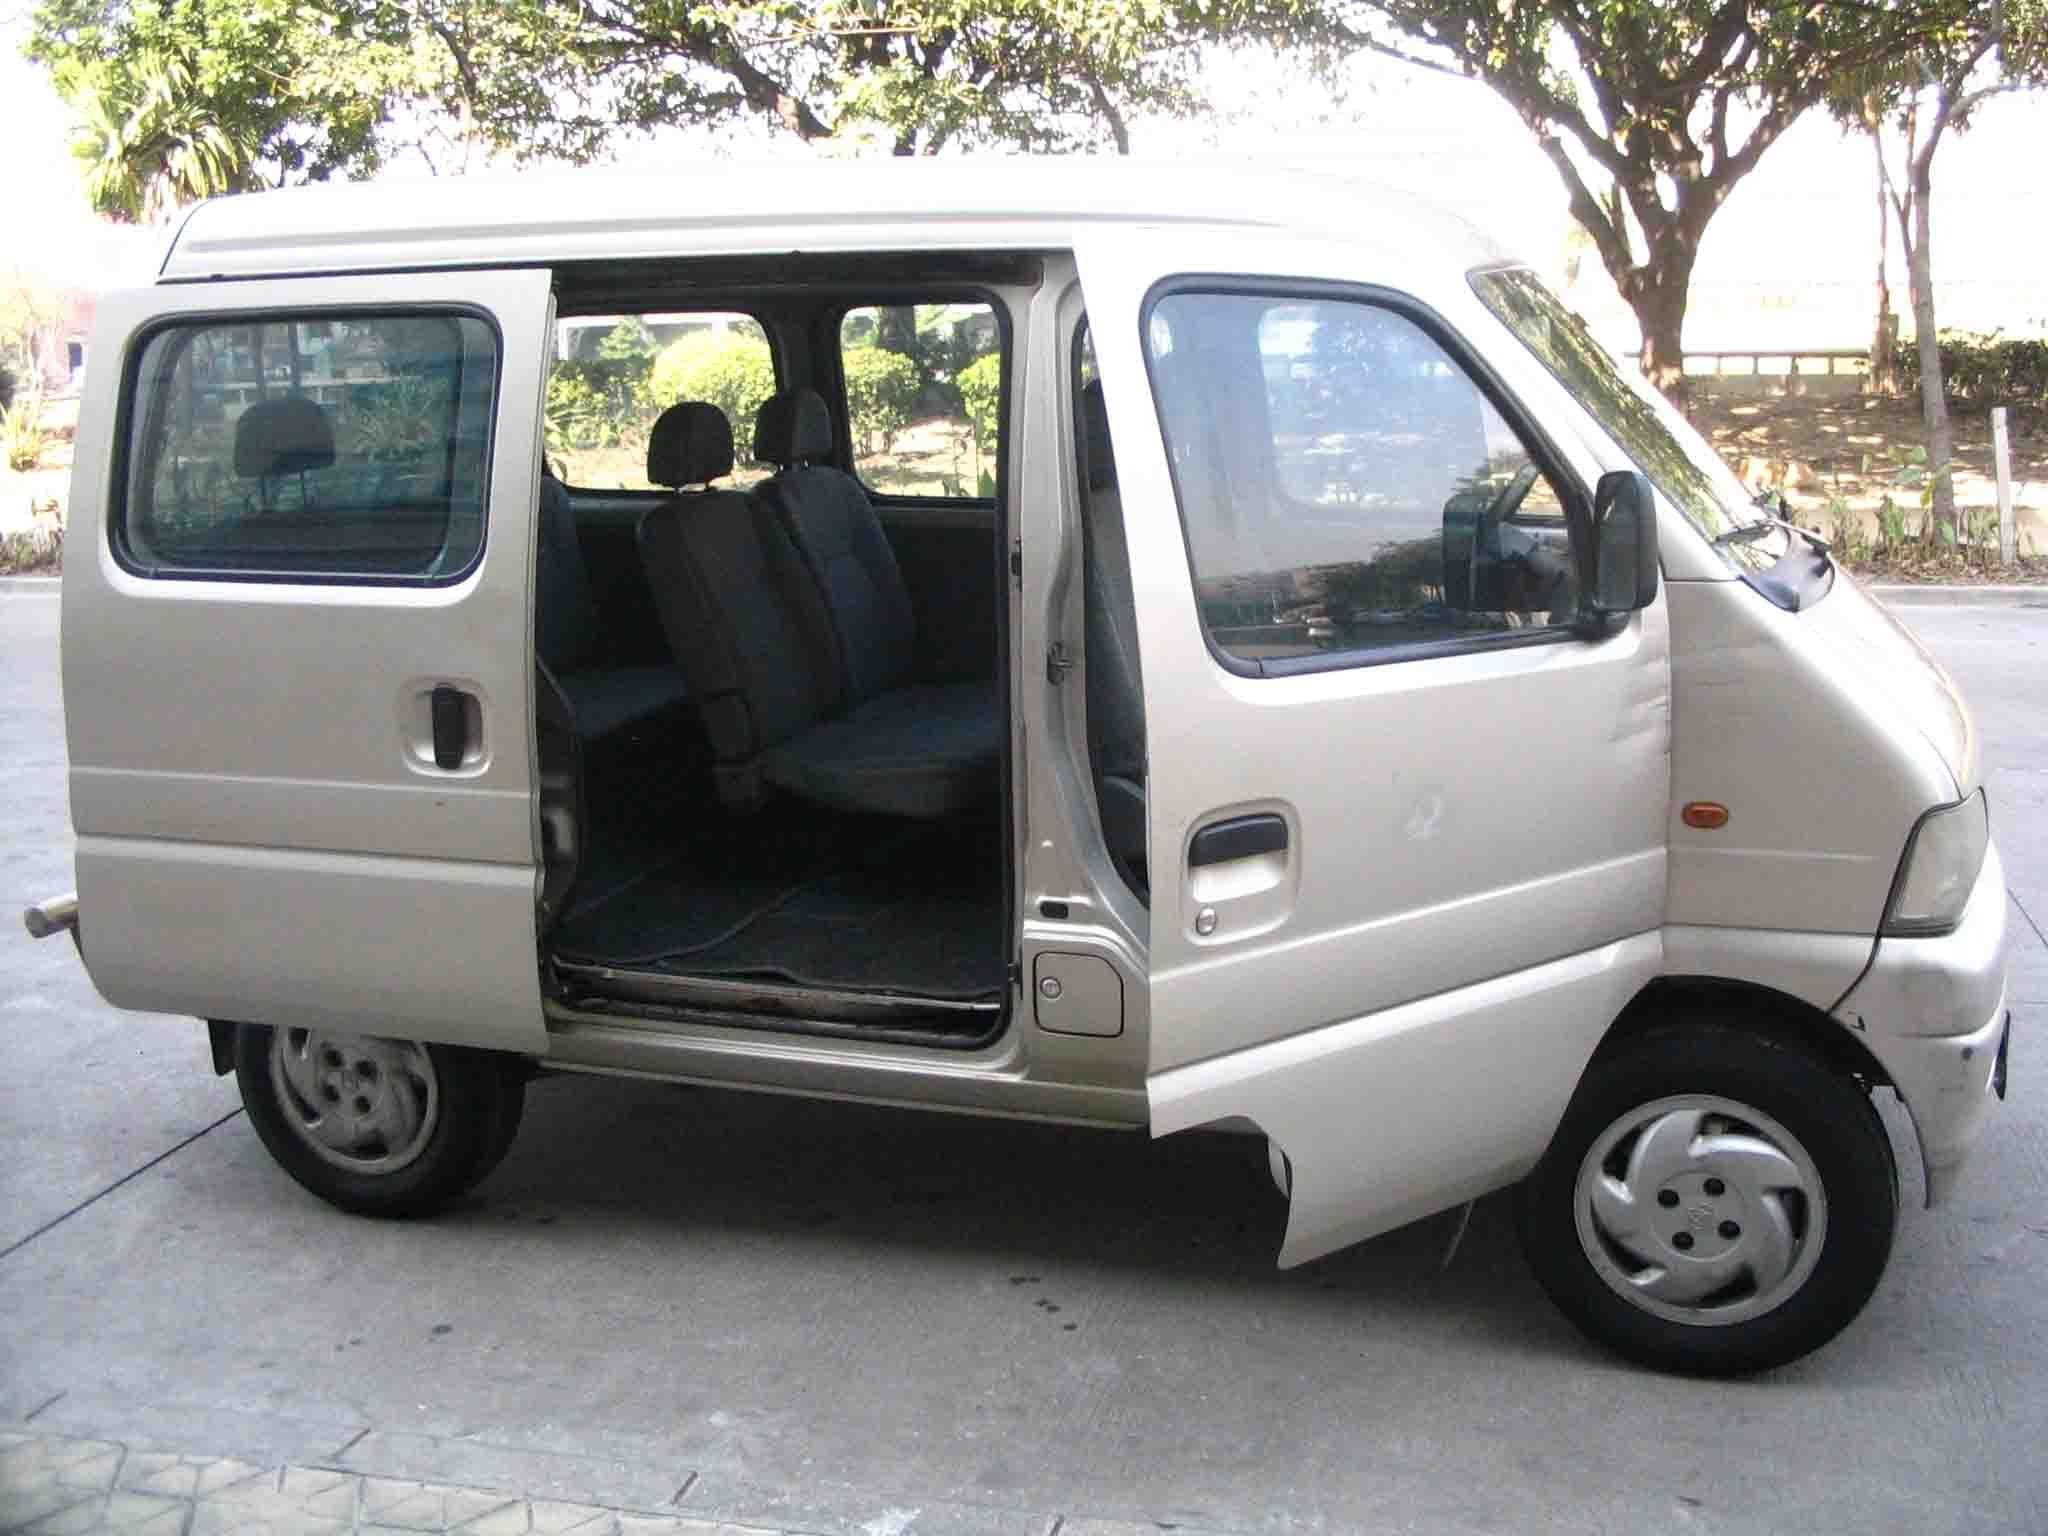minibus: (63, 139, 1988, 1399)
